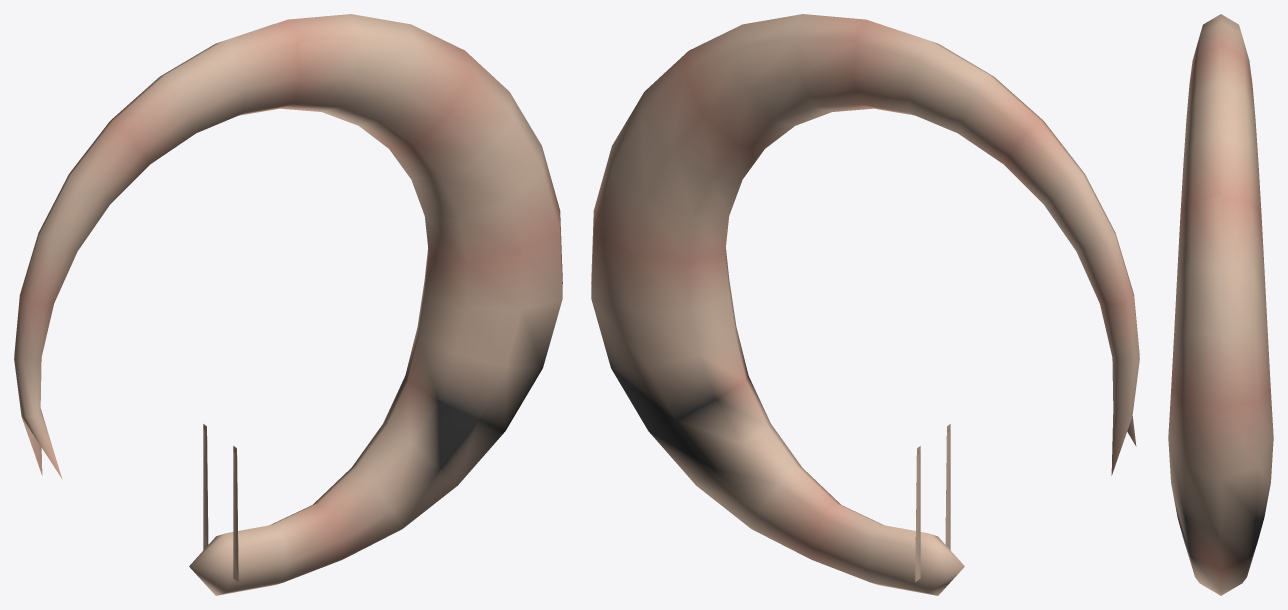
Rendered from Shrimp.glb.
3 views of the same model, side by side, from view 1: azimuth 30°, elevation 25°; view 2: azimuth 150°, elevation 25°; view 3: azimuth 270°, elevation 25° (orthographic). The views are drawn at different scales.
Parts seen in each view (by area): view 1: Shrimp; view 2: Shrimp; view 3: Shrimp.
Boxes of the visible parts, <box> form: Shrimp: <box>14,14,562,595</box>; Shrimp: <box>591,14,1139,595</box>; Shrimp: <box>1168,14,1273,595</box>.
Bounding box in the file's own units: 0.8439 × 0.8268 × 0.1505.
